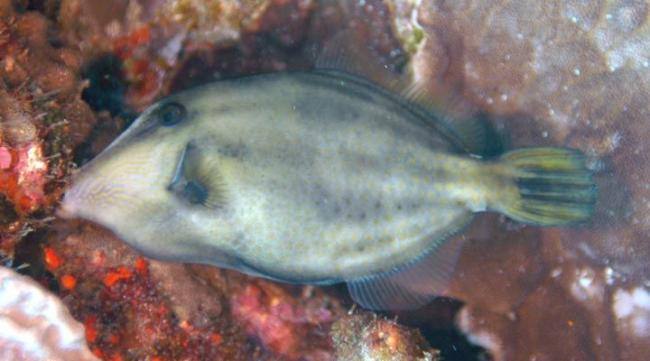fish: (58, 45, 596, 307)
